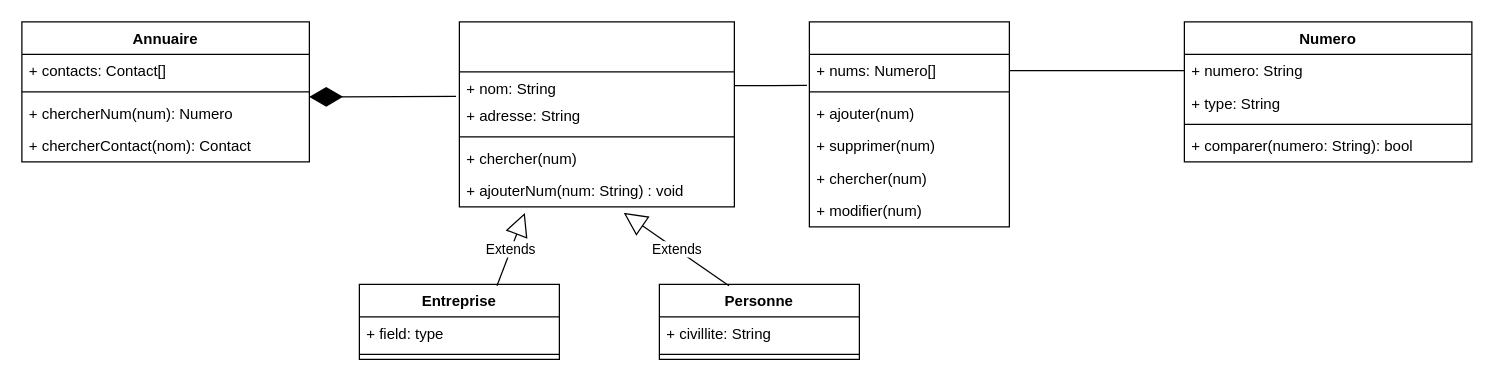
This 1494x381 diagram has some shape labels left out. Here are the shapes that lost their labels. From the top down, the box of each, then its label:
(458, 21, 734, 207): <<abstract>> Contact
(808, 21, 1009, 227): ListNum
